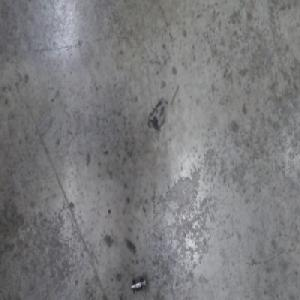Bolt: (130, 274, 147, 295)
